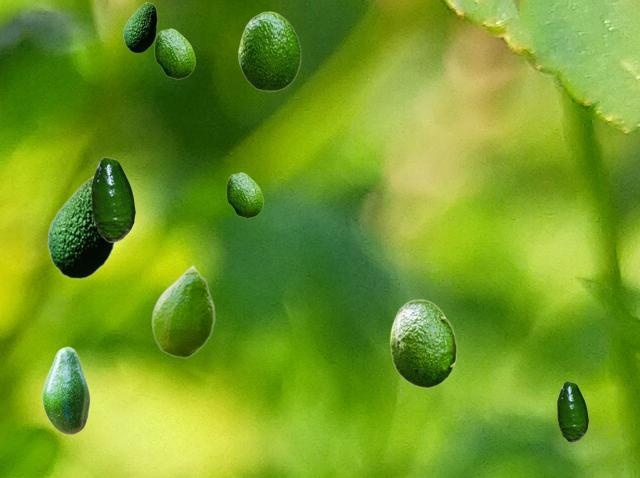avocado: (47, 175, 115, 278), (389, 299, 456, 387), (151, 264, 214, 357), (238, 11, 300, 90), (41, 346, 89, 434), (91, 157, 134, 241), (154, 28, 194, 78), (557, 381, 587, 441), (123, 2, 156, 52), (226, 172, 262, 217)
